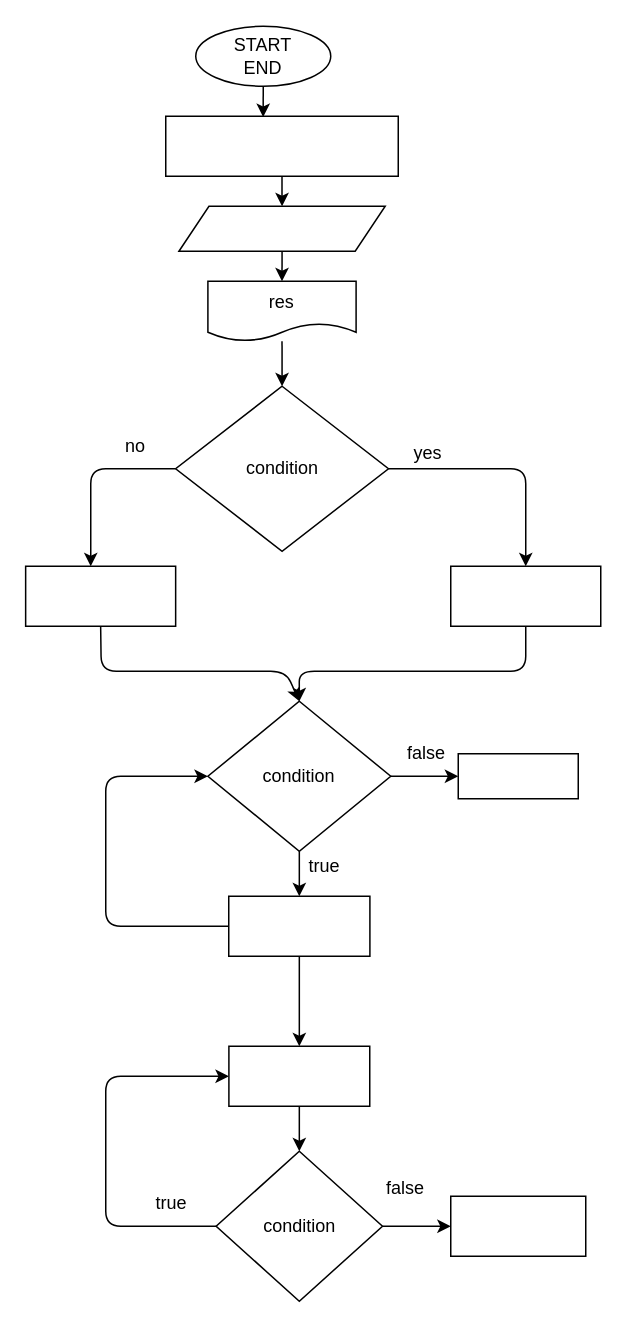
This 629x1328 diagram has some shape labels left out. Each missing label, with the centre of its shape:
count: point 281,228
count = 0 res = 1 * Sqrt(2): point 281,145
